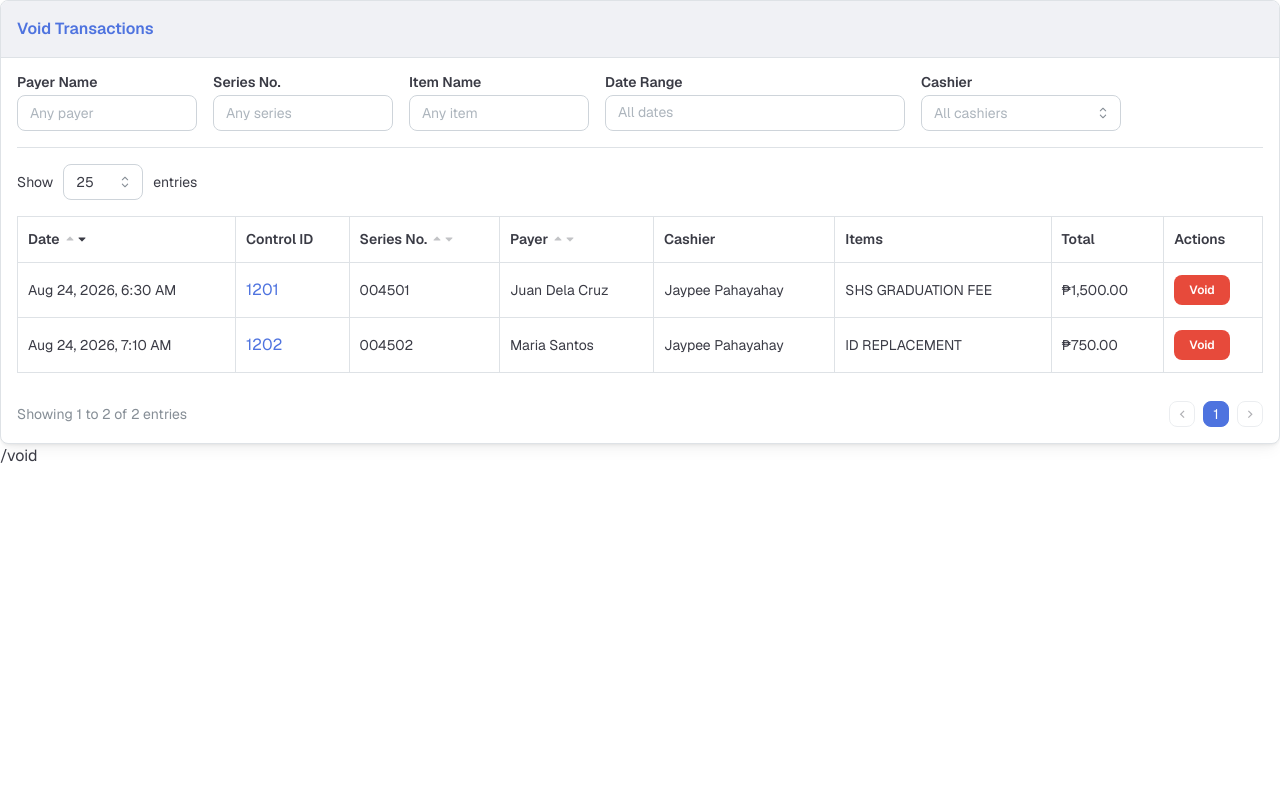
VoidTransactionPage › carries the identifiers of the row whose button was clicked
Click the button "Void" in the row of "Aug 24, 2026, 7:10 AM" at (1202, 346), box [1174, 330, 1230, 360]
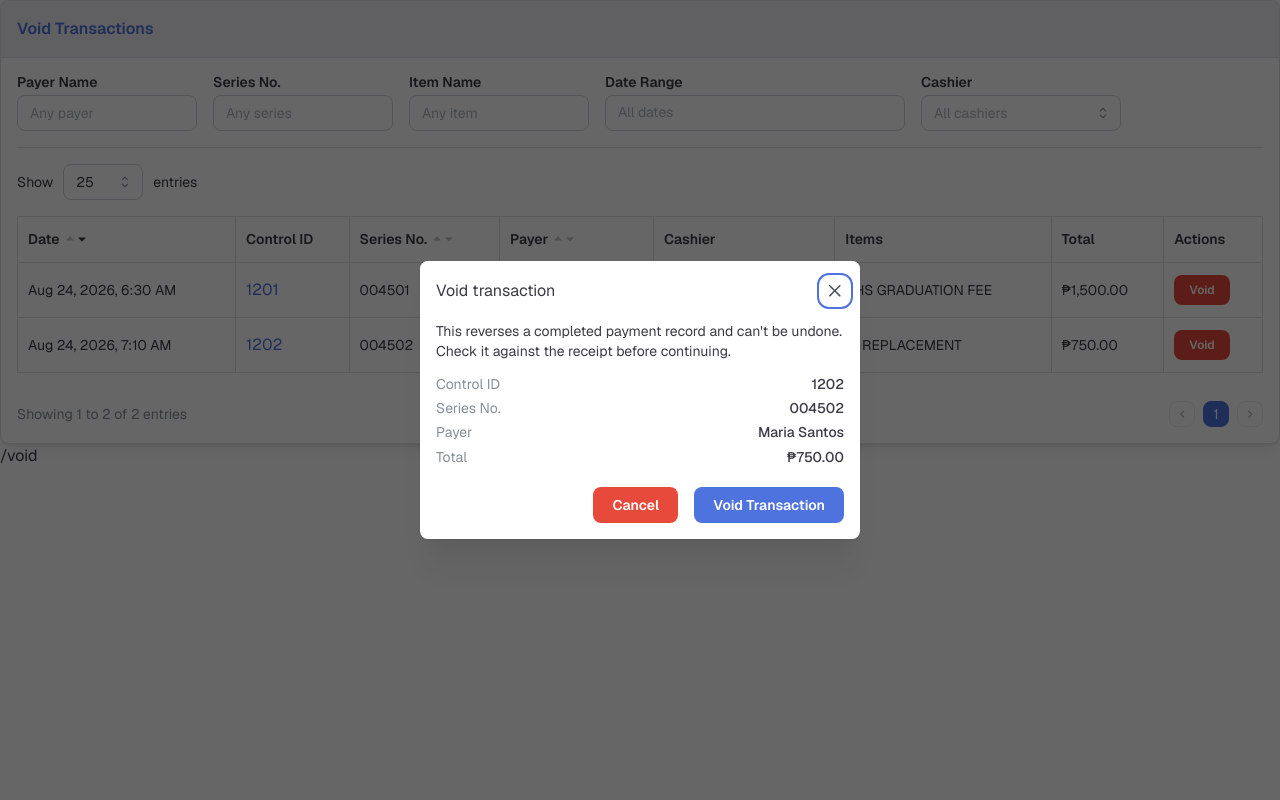
Expected: the text "004502" is shown, [789, 398, 844, 418]
Expected: the text "Maria Santos" is shown, [758, 422, 844, 443]
